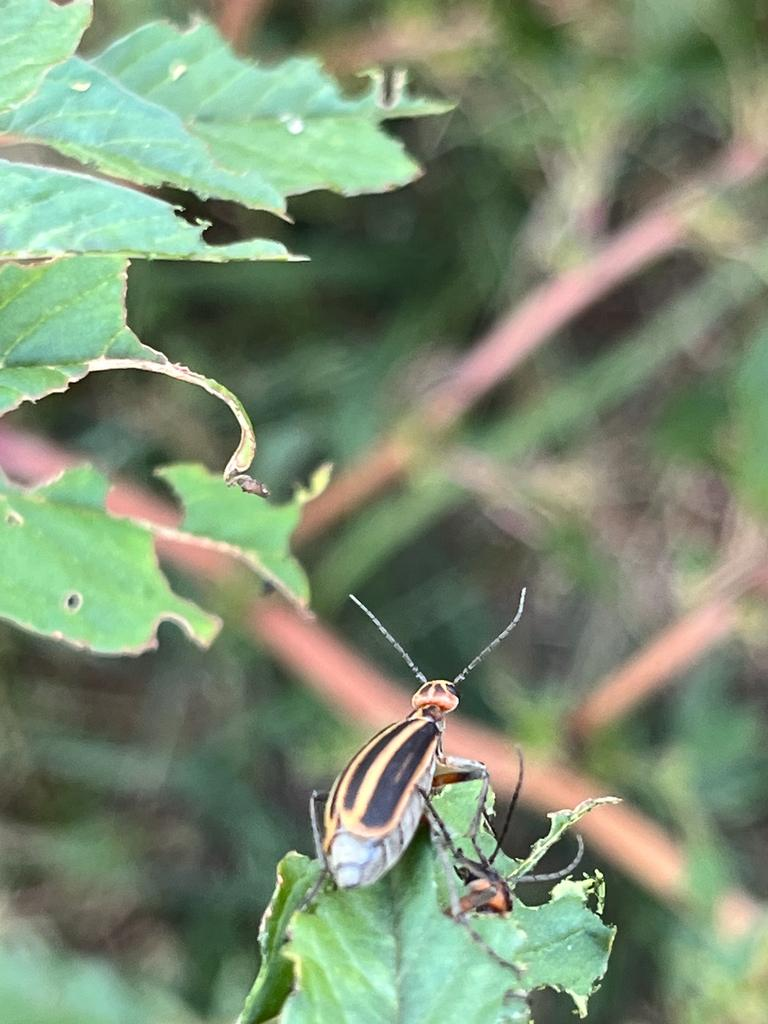blister_beetle: (252, 569, 578, 952)
